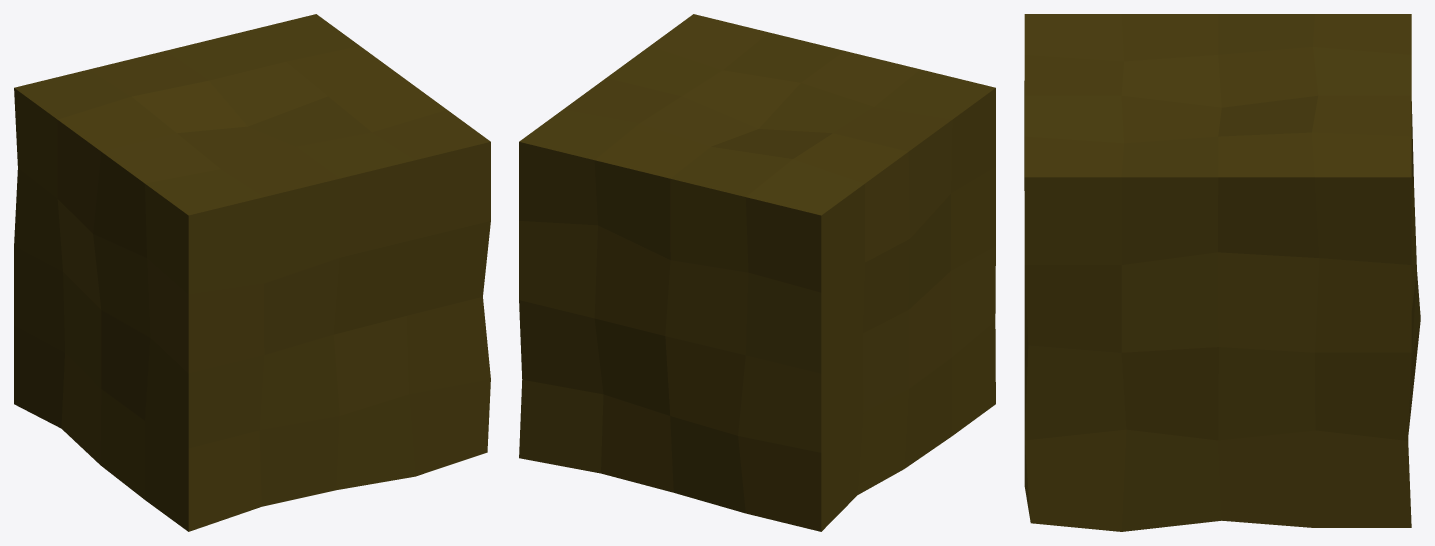
File: Dirt_002.fbx
The picture shows the model from 3 angles, left to right: view 1: azimuth 30°, elevation 25°; view 2: azimuth 150°, elevation 25°; view 3: azimuth 270°, elevation 25°; orthographic projection. The views are drawn at different scales.
Parts seen in each view (by area): view 1: Dirt_002; view 2: Dirt_002; view 3: Dirt_002.
Boxes of the visible parts, bbox=[...] form: Dirt_002: bbox=[14, 14, 490, 531]; Dirt_002: bbox=[519, 14, 995, 531]; Dirt_002: bbox=[1024, 14, 1420, 531].
Size of the model in its own units: 204 by 208 by 205.
Materials: 1 (1 with a texture image).
